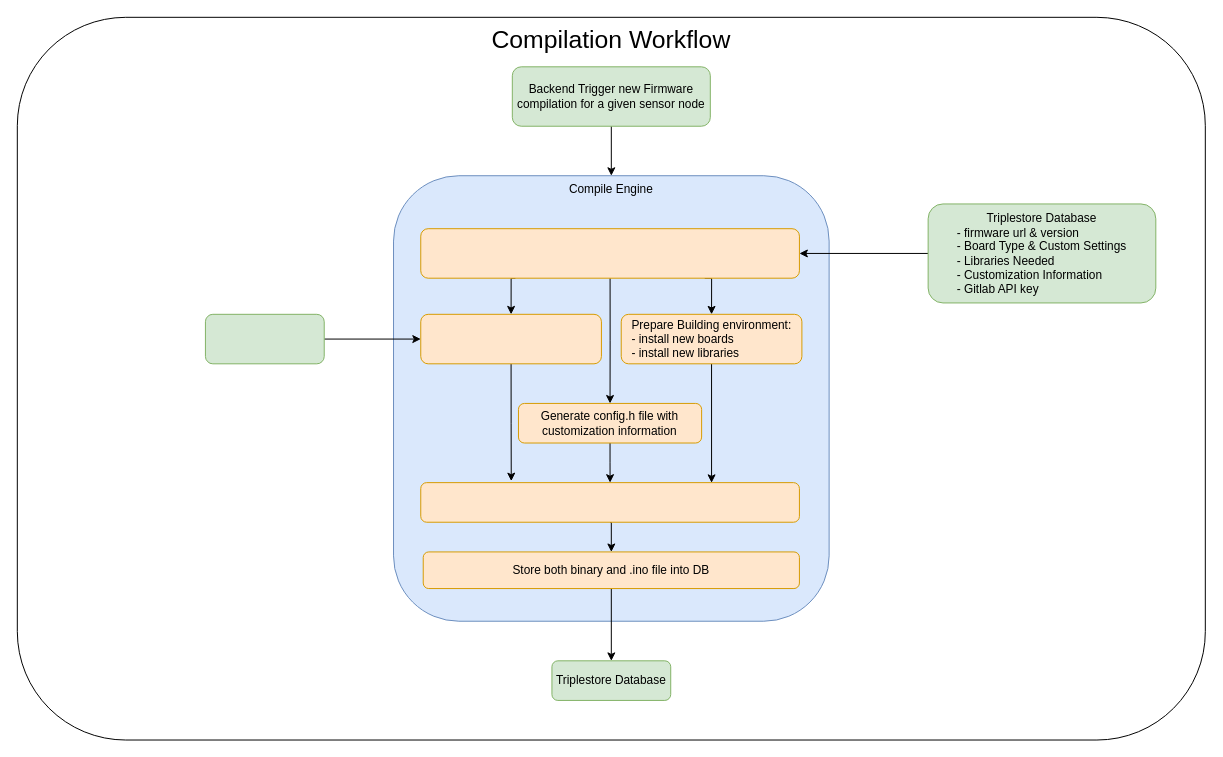
Image size: 1223x757. Some labels were removed from this diagram. Here are the shapes that lost their labels. From the top down, the centre of each, then its label:
At (609,253): "Get informations from DB".
At (264,338): "Gitlab Repository".
At (510,338): "Download Firmware".
At (609,502): "Compile Firmware with arduino-cli".
